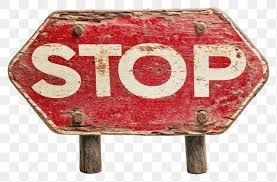stop sign: (8, 8, 267, 137)
